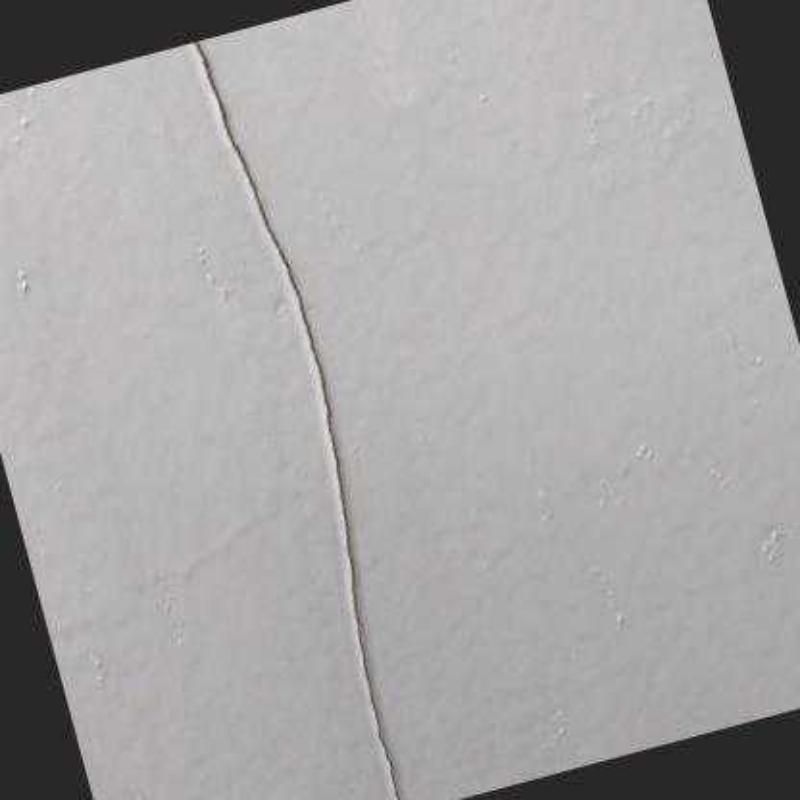crack: (194, 39, 401, 800)
